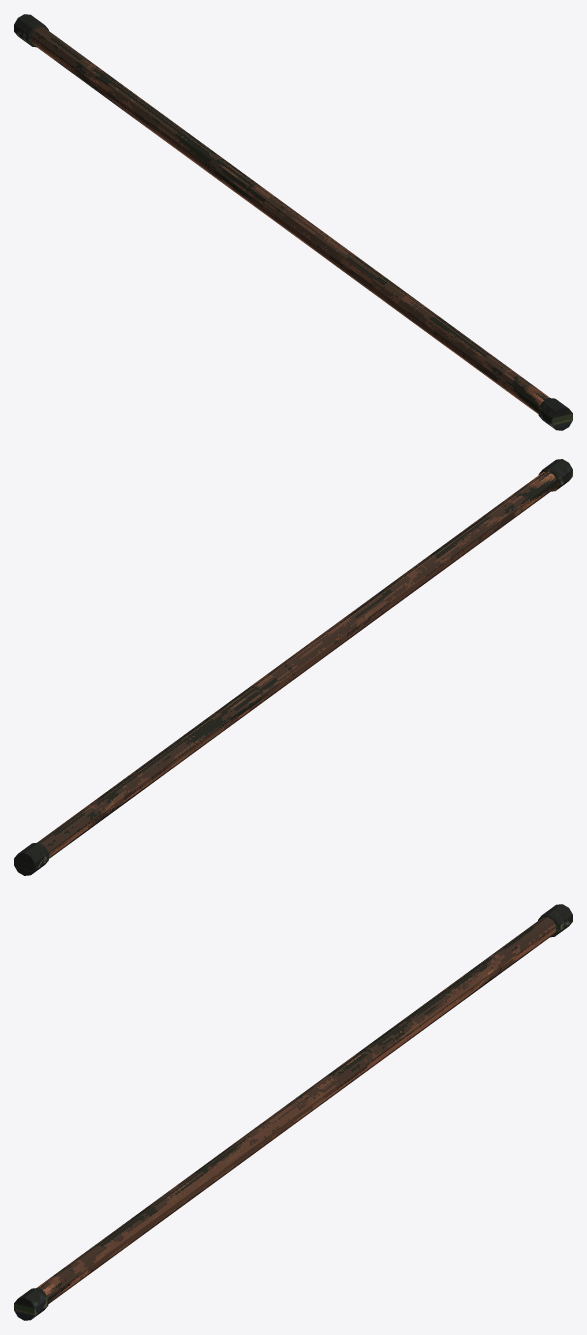
Rendered from staff.glb.
The picture shows the model from 3 angles, top to bottom: view 1: azimuth 30°, elevation 25°; view 2: azimuth 150°, elevation 25°; view 3: azimuth 330°, elevation 25°; orthographic projection.
Visible parts, largest first — view 1: haft, capBottom, capTop; view 2: haft, capTop; view 3: haft, capBottom, capTop.
Boxes of the visible parts, x1,y1,x2,y2 form: haft: [31, 27, 549, 413]; capBottom: [538, 398, 572, 430]; capTop: [14, 14, 48, 47]; haft: [37, 469, 559, 858]; capTop: [14, 842, 48, 875]; haft: [37, 917, 555, 1303]; capBottom: [14, 1288, 48, 1320]; capTop: [538, 904, 572, 937].
Size of the model in its own units: 0.0399 by 0.0422 by 1.79.
2 materials, 2 textured.
